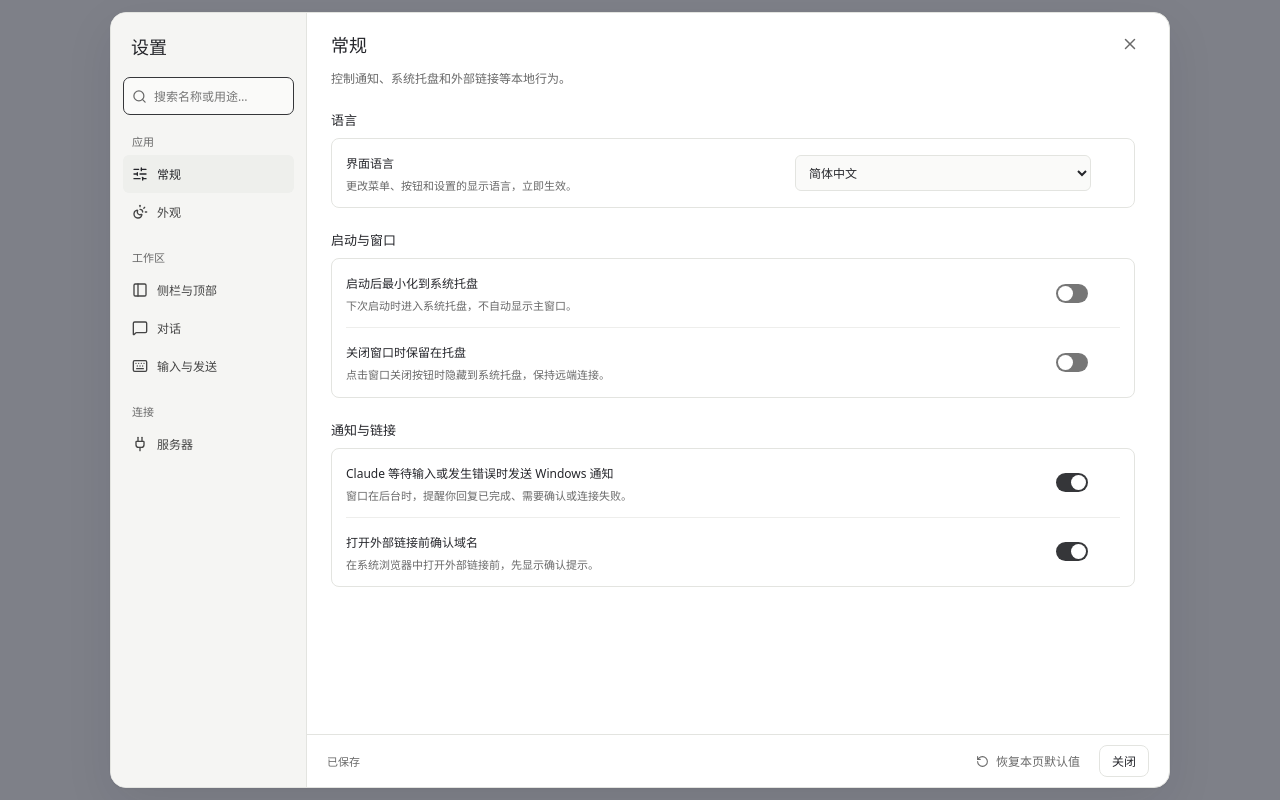
Test: settings preferences › keeps connection tools available without any servers
Click the button "服务器".
click(208, 444)  # box top-left (123, 425), bottom-right (294, 463)
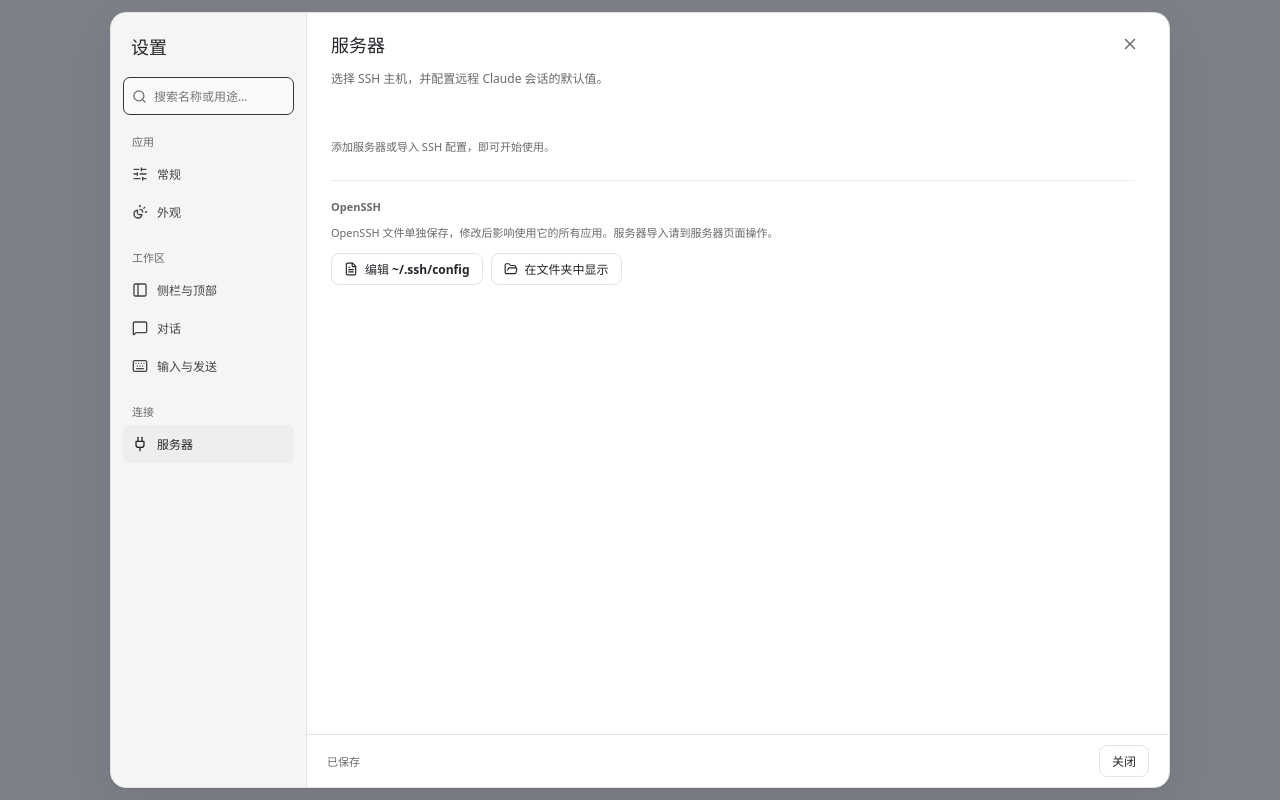
Expected: the button "编辑 ~/.ssh/config" is enabled, top-left (331, 253), bottom-right (482, 285)
